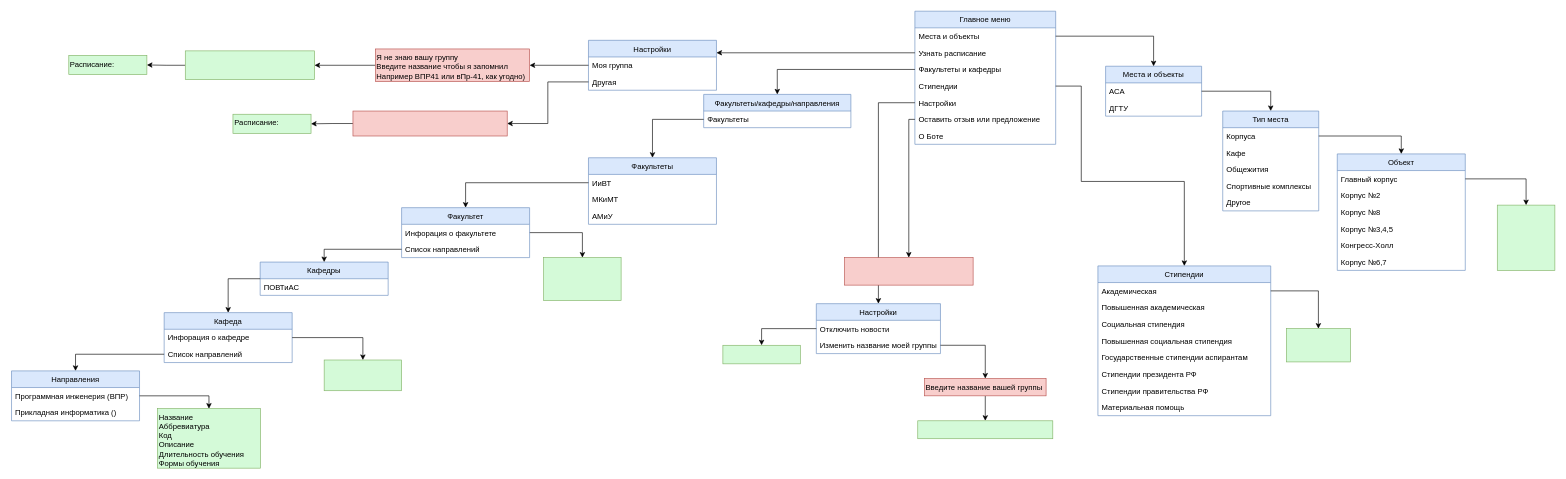
Some shapes in this 1566 by 479 pixel diagram are drawn without their labels. The centre of each missing label's shape, as x and y in pixels:
"Введите название группы. Например ВПР41 или вПр-41, как угодно)" belongs at point (429, 123).
"Введите отзыв или предложение, я обязательно его прочту :)" belongs at point (908, 271).
"Название Адрес Телефоны Расписание Карта Фото" belongs at point (1526, 237).
"Название Номер аудитории Зав. кафедры" belongs at point (363, 375).
"Название Описание Номер аудитории Декан" belongs at point (582, 278).
"Название Условия Сумма выплаты" belongs at point (1318, 345).
"Новости отключены" belongs at point (761, 354).
"Я запомнил твою группу. Можешь ее изменить в настройках" belongs at point (250, 65).
"Язапомнил название вашей группы" belongs at point (985, 429).
